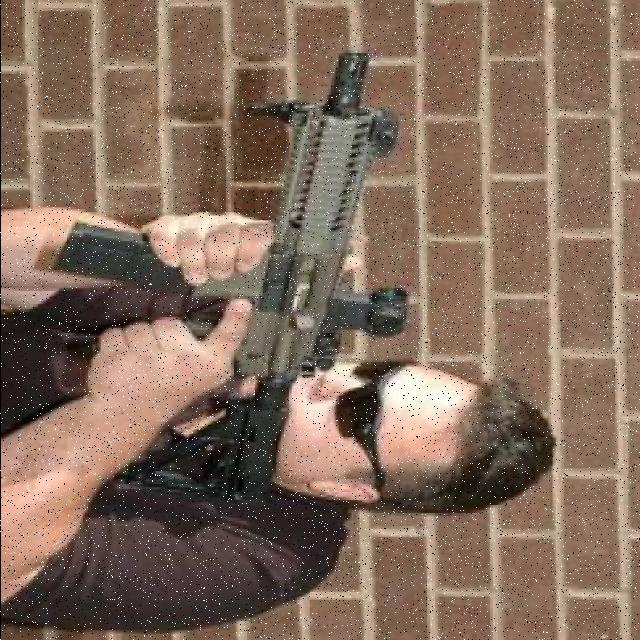Rifle: (45, 51, 411, 506)
